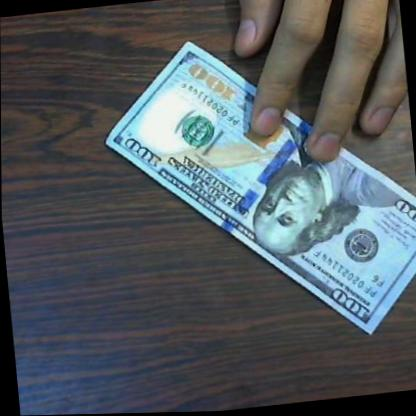one_hundred-front: (93, 15, 416, 366)
